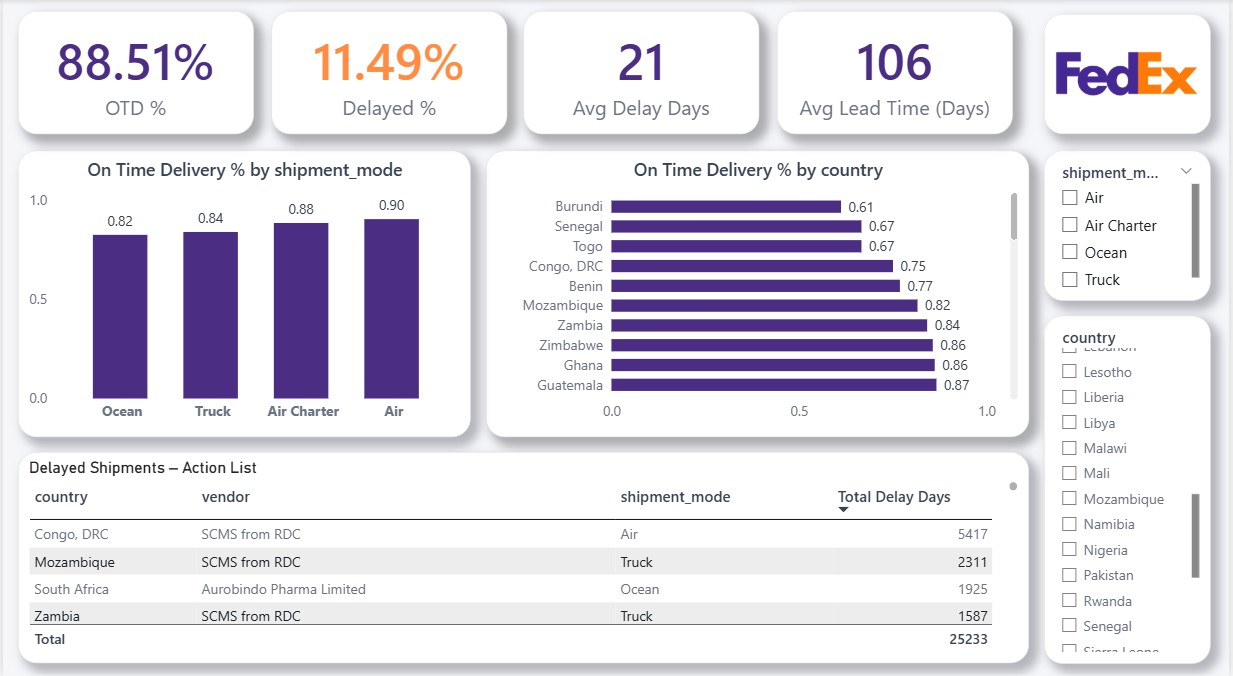

This screenshot's page, from the dashboard's own definition file:
{"tool":"powerbi","page":{"name":"Page 1","canvas":[1300,720],"ordinal":0},"visuals":[{"type":"barChart","title":"On Time Delivery % by country","fields":{"Category":["fedex_shipments_kpi.country"],"Y":["fedex_shipments_kpi.OTD %"]},"box":[512,160,576,304],"z":0},{"type":"clusteredColumnChart","title":"On Time Delivery  % by shipment_mode","fields":{"Y":["fedex_shipments_kpi.OTD %"],"Category":["fedex_shipments_kpi.shipment_mode"]},"box":[16,160,480,304],"z":1000},{"type":"slicer","fields":{"Values":["fedex_shipments_kpi.country"]},"box":[1103.9,335.6,176.6,369],"z":2000},{"type":"slicer","fields":{"Values":["fedex_shipments_kpi.shipment_mode"]},"box":[1103.9,160.7,176.6,159.1],"z":3000},{"type":"tableEx","title":"Delayed Shipments – Action List","fields":{"Values":["fedex_shipments_kpi.country","fedex_shipments_kpi.vendor","fedex_shipments_kpi.shipment_mode","fedex_shipments_kpi.Total Delay Days"]},"box":[16,480,1072,224],"z":4000},{"type":"image","box":[1103.9,15.9,176.6,127.2],"z":5000},{"type":"card","fields":{"Values":["fedex_shipments_kpi.OTD %"]},"box":[15.9,12.7,249.7,130.4],"z":6000},{"type":"card","fields":{"Values":["fedex_shipments_kpi.Delayed %"]},"box":[284.7,12.7,249.7,130.4],"z":7000},{"type":"card","fields":{"Values":["fedex_shipments_kpi.Avg Delay Days"]},"box":[551.9,12.7,249.7,130.4],"z":8000},{"type":"card","fields":{"Values":["fedex_shipments_kpi.Avg Lead Time (Days)"]},"box":[820.8,12.7,249.7,130.4],"z":9000}]}

Visuals, with their boxes in screenshot pixels (x1, y1, x2, y2), scaled from the page's 1300x720 canvas onto the 1233x676 screenshot:
"On Time Delivery % by country" barChart: 486,150,1032,436
"On Time Delivery  % by shipment_mode" clusteredColumnChart: 15,150,470,436
slicer - fedex_shipments_kpi.country: 1047,315,1215,662
slicer - fedex_shipments_kpi.shipment_mode: 1047,151,1215,300
"Delayed Shipments – Action List" tableEx: 15,451,1032,661
image: 1047,15,1215,134
card - fedex_shipments_kpi.OTD %: 15,12,252,134
card - fedex_shipments_kpi.Delayed %: 270,12,507,134
card - fedex_shipments_kpi.Avg Delay Days: 523,12,760,134
card - fedex_shipments_kpi.Avg Lead Time (Days): 778,12,1015,134
